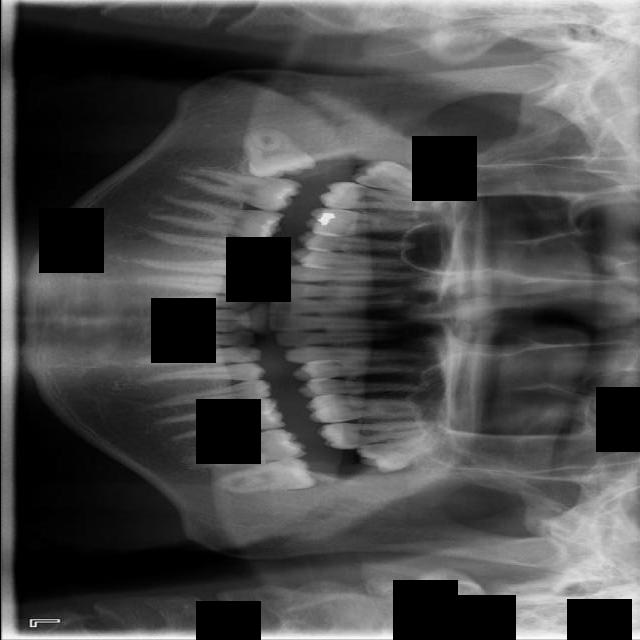3M ESPE Implant: (350, 152, 440, 203)
52: (248, 166, 306, 224), (256, 422, 308, 466), (242, 391, 287, 436), (238, 206, 283, 248), (302, 204, 353, 239)
73: (65, 572, 70, 580)
BioHorizons Implant: (317, 419, 433, 450)
BioLife Implant: (355, 427, 447, 479)
Biomet 3i Implant: (213, 454, 318, 497)
Blue Sky Bio Implant: (185, 426, 308, 470)
Caries: (319, 181, 437, 214)
Implant: (179, 167, 303, 214)
Keystone Dental Implant: (241, 120, 318, 184)
